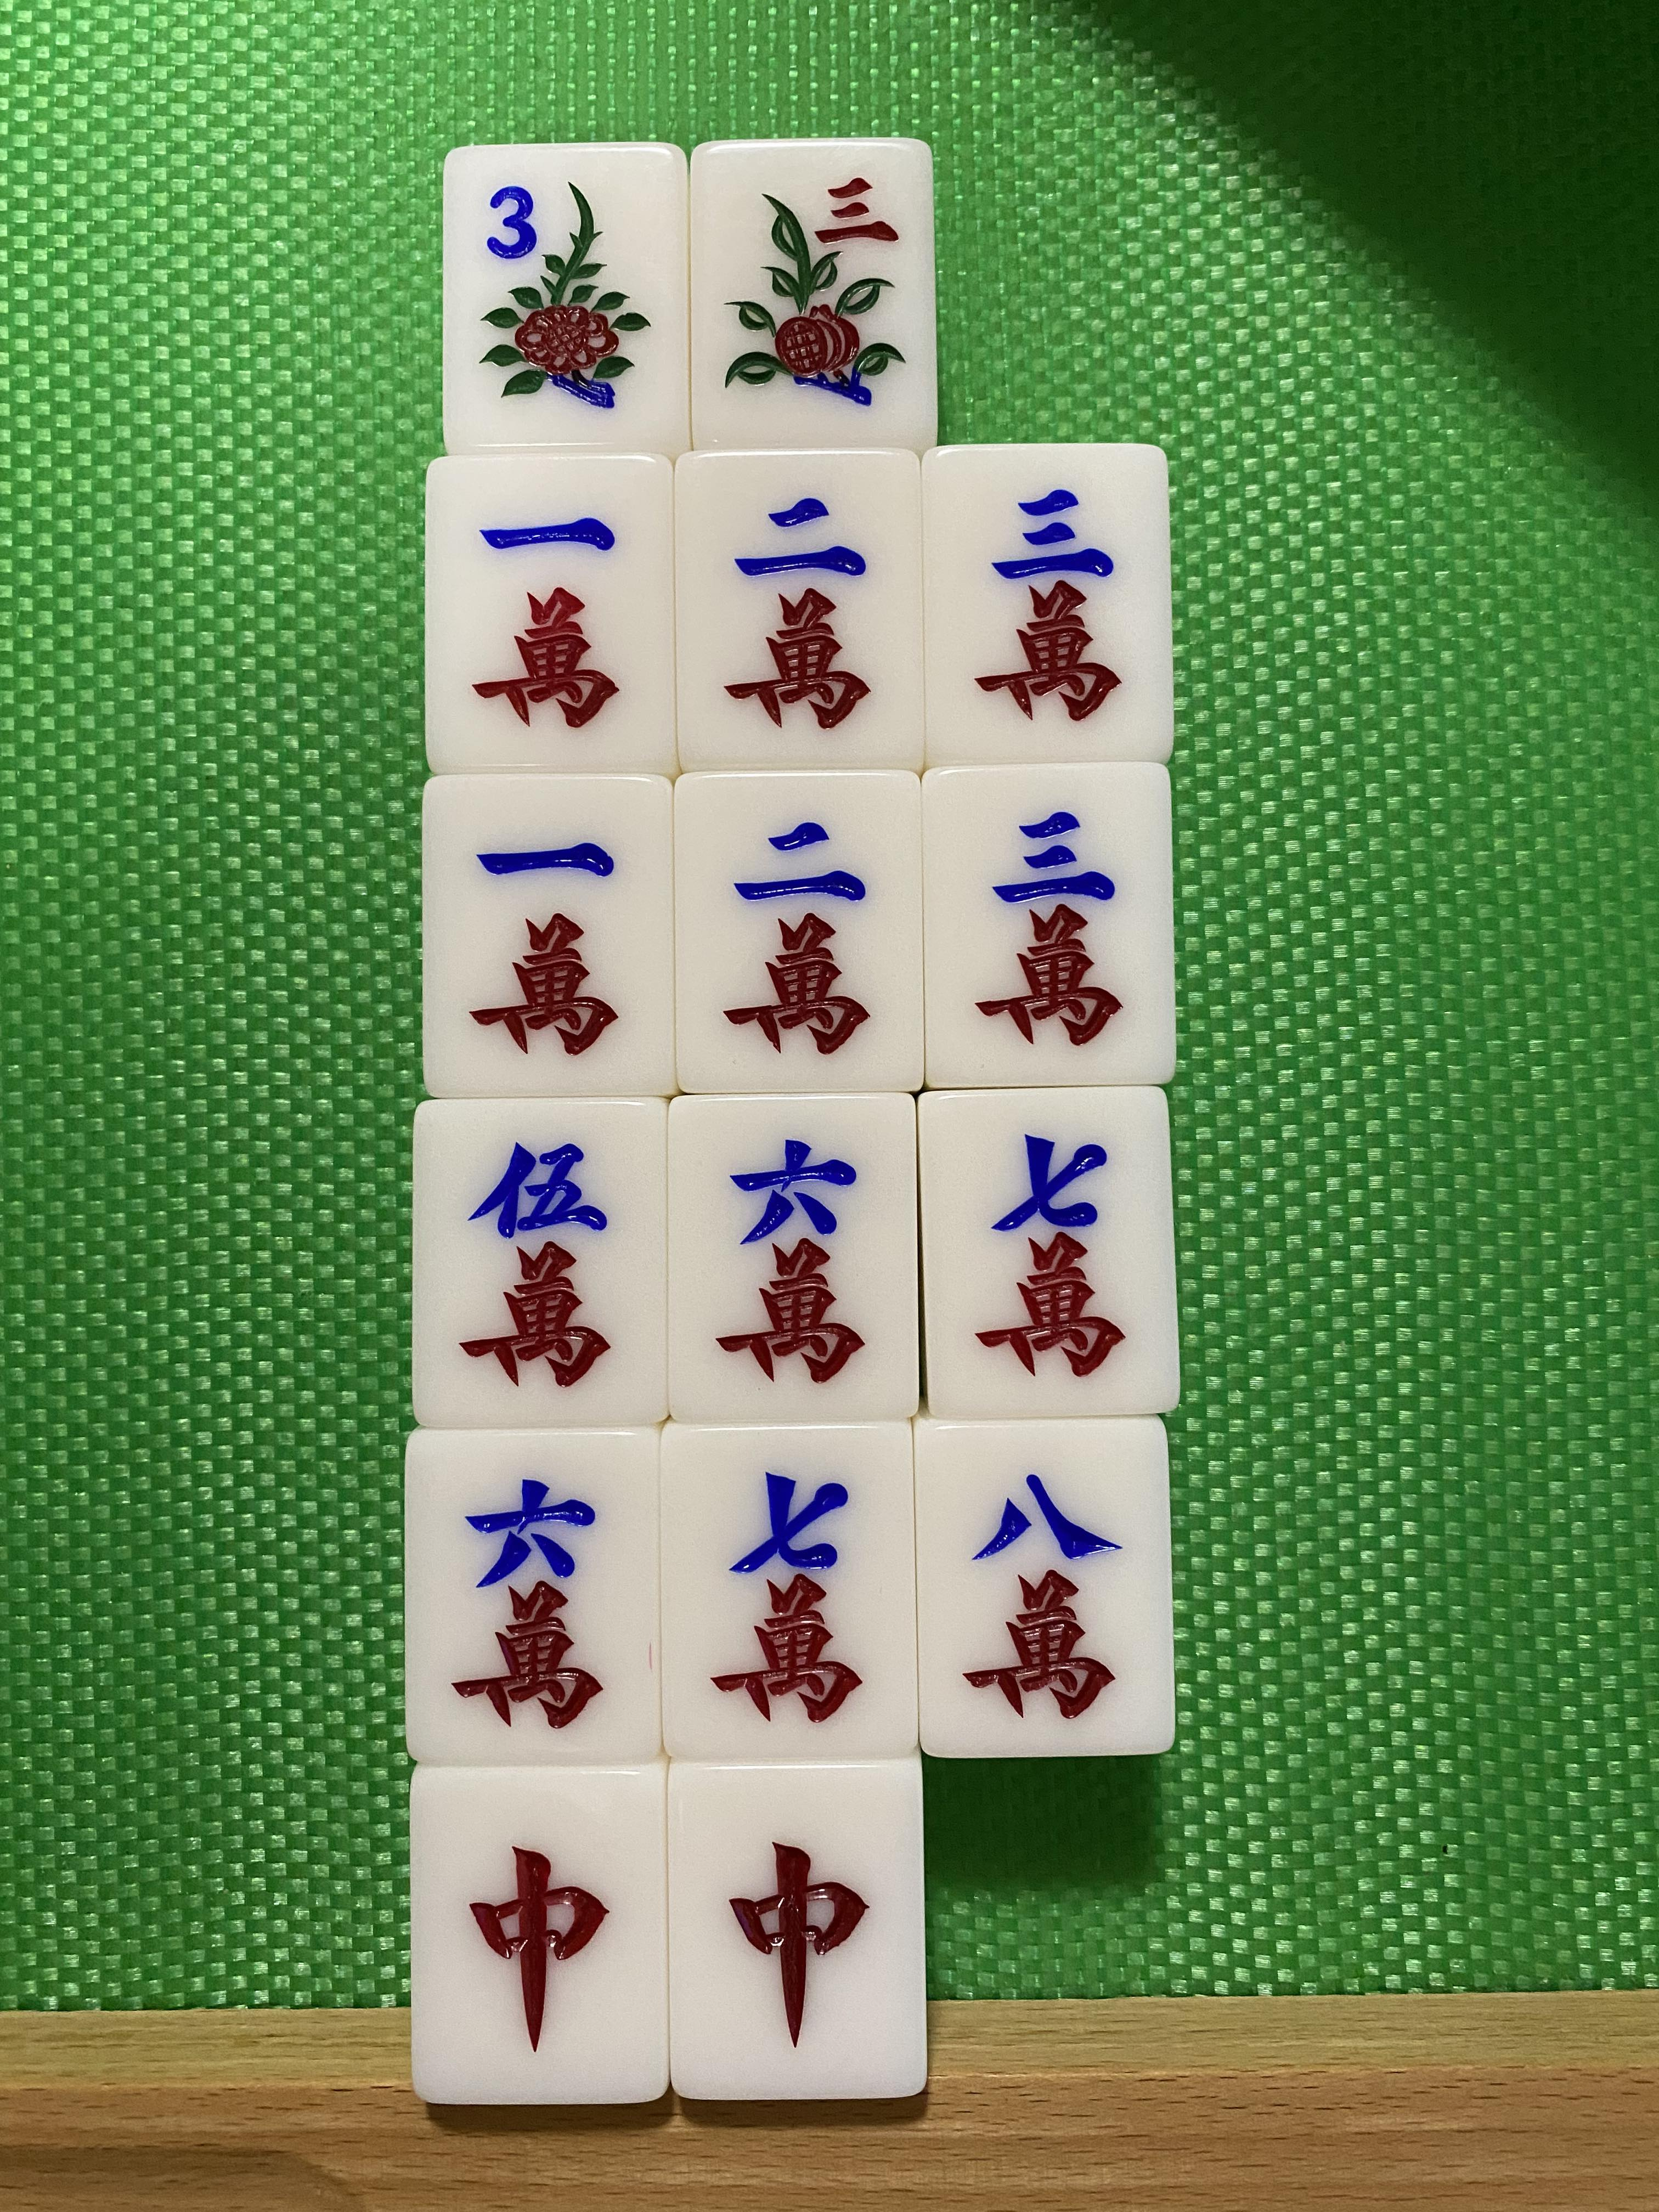character-eight: (924, 1420, 1176, 1756)
character-five: (413, 1103, 667, 1425)
character-one: (425, 777, 674, 1097), (430, 460, 671, 765)
character-seven: (662, 1421, 920, 1757), (915, 1090, 1182, 1409)
character-six: (408, 1433, 660, 1764), (666, 1097, 918, 1414)
character-three: (924, 763, 1171, 1087), (925, 448, 1171, 761)
character-two: (673, 772, 922, 1090), (678, 453, 924, 766)
flower-blue_three: (441, 145, 681, 448)
flower-red_three: (692, 141, 936, 442)
honor-red_dragon: (410, 1766, 671, 2104), (673, 1763, 927, 2099)
